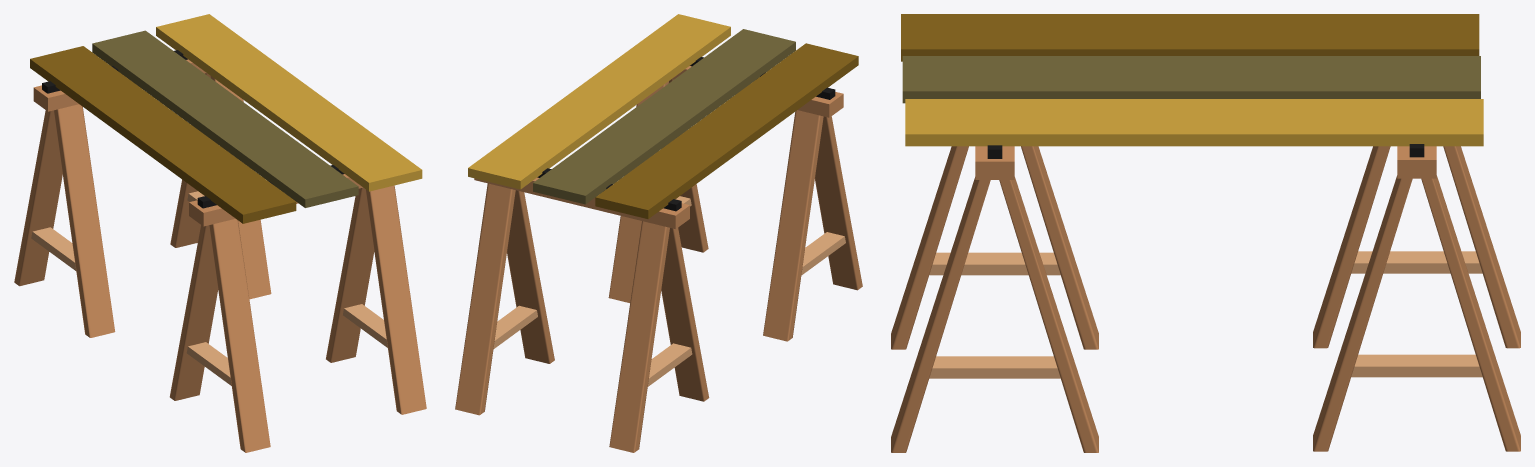
3 views of the same model, side by side, from view 1: azimuth 30°, elevation 25°; view 2: azimuth 150°, elevation 25°; view 3: azimuth 270°, elevation 25° (orthographic). The views are drawn at different scales.
Visible parts, largest first — view 1: ochre_board, olive_board, golden_board, splayed_leg, splayed_leg.004, splayed_leg.002, splayed_leg.005, splayed_leg.001, splayed_leg.003, splayed_leg.006, splayed_leg.007, low_crossbar.001 (+4 smaller); view 2: ochre_board, golden_board, olive_board, splayed_leg.007, splayed_leg.005, splayed_leg.001, splayed_leg.004, splayed_leg, splayed_leg.006, splayed_leg.003, beam.001, splayed_leg.002 (+4 smaller); view 3: golden_board, olive_board, ochre_board, splayed_leg.007, splayed_leg.003, splayed_leg.006, splayed_leg.002, splayed_leg.001, splayed_leg, splayed_leg.005, splayed_leg.004, low_crossbar.003 (+5 smaller).
Boxes of the visible parts, x1,y1,x2,y2 form: ochre_board: (30,46,296,223); olive_board: (92,30,358,207); golden_board: (156,14,422,191); splayed_leg: (209,218,270,452); splayed_leg.004: (54,104,115,337); splayed_leg.002: (365,185,426,414); splayed_leg.005: (14,110,62,286); splayed_leg.001: (169,225,218,400); splayed_leg.003: (326,187,374,362); splayed_leg.006: (210,76,271,299); splayed_leg.007: (170,73,210,247); low_crossbar.001: (343,304,387,347); ochre_board: (595,43,858,218); golden_board: (468,14,730,189); olive_board: (533,29,795,204); splayed_leg.007: (455,183,515,415); splayed_leg.005: (609,221,669,452); splayed_leg.001: (763,110,823,341); splayed_leg.004: (661,228,709,401); splayed_leg: (815,116,862,290); splayed_leg.006: (507,190,554,363); splayed_leg.003: (608,81,668,302); beam.001: (474,177,689,229); splayed_leg.002: (669,79,708,252); golden_board: (905,99,1483,146); olive_board: (902,56,1480,103); ochre_board: (901,14,1479,61); splayed_leg.007: (1421,175,1520,451); splayed_leg.003: (999,177,1098,452); splayed_leg.006: (1313,175,1412,451); splayed_leg.002: (891,177,990,452); splayed_leg.001: (1021,146,1098,349); splayed_leg: (891,146,968,349); splayed_leg.005: (1443,146,1520,348); splayed_leg.004: (1313,146,1390,348); low_crossbar.003: (1351,354,1482,377).
Size of the model in its own units: 0.6075 by 0.67 by 1.2.
